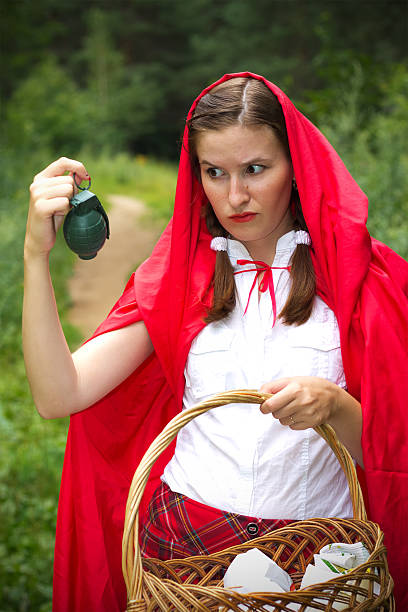e1: (65, 169, 113, 263)
